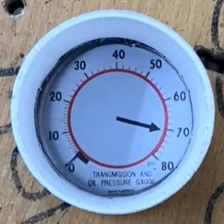gauge: (36, 39, 193, 195)
